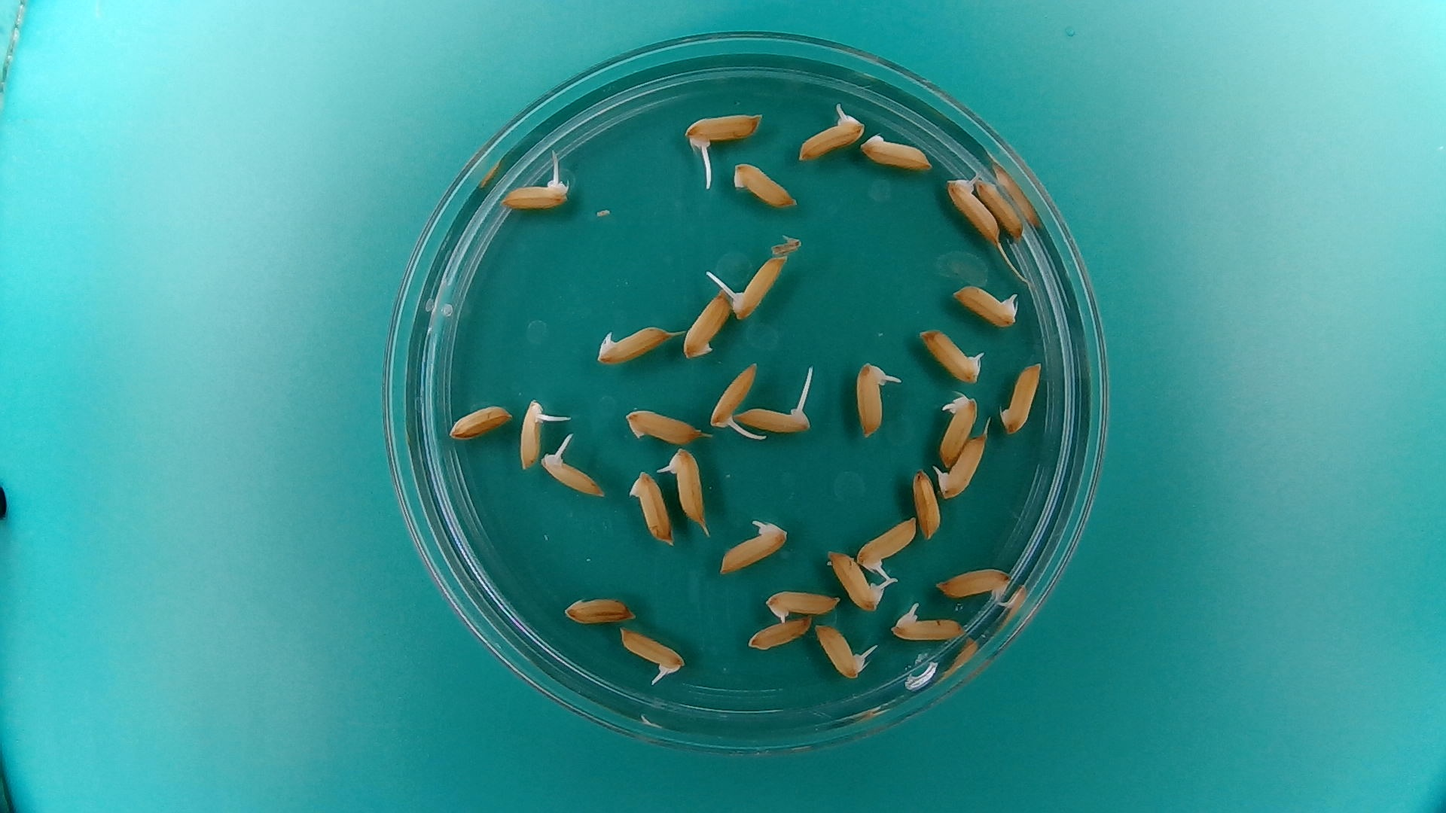no: (621, 403, 706, 446), (682, 288, 731, 358), (733, 159, 802, 208), (858, 129, 935, 171), (631, 472, 675, 545), (1000, 361, 1042, 437), (444, 400, 515, 443), (978, 181, 1025, 241), (936, 565, 1014, 601), (561, 591, 637, 625), (911, 464, 944, 541), (746, 616, 814, 653)
yes: (732, 387, 818, 435), (731, 251, 789, 321), (707, 357, 760, 433), (825, 547, 883, 613), (717, 521, 786, 575), (947, 179, 1001, 246), (918, 330, 982, 386), (616, 625, 687, 674), (856, 517, 917, 572), (813, 620, 867, 681), (596, 325, 669, 370), (795, 114, 861, 163), (935, 395, 980, 466), (938, 433, 984, 500), (665, 451, 706, 523), (538, 454, 603, 499), (890, 606, 967, 643), (953, 284, 1018, 327), (764, 586, 840, 622), (853, 361, 889, 437), (683, 113, 754, 151), (499, 173, 565, 211), (517, 400, 546, 470)
